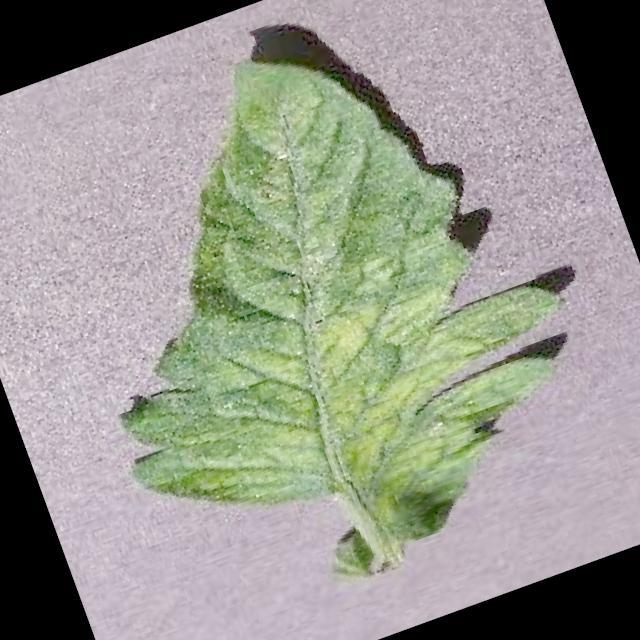Tomato mosaic virus leaf: (11, 0, 630, 631)
